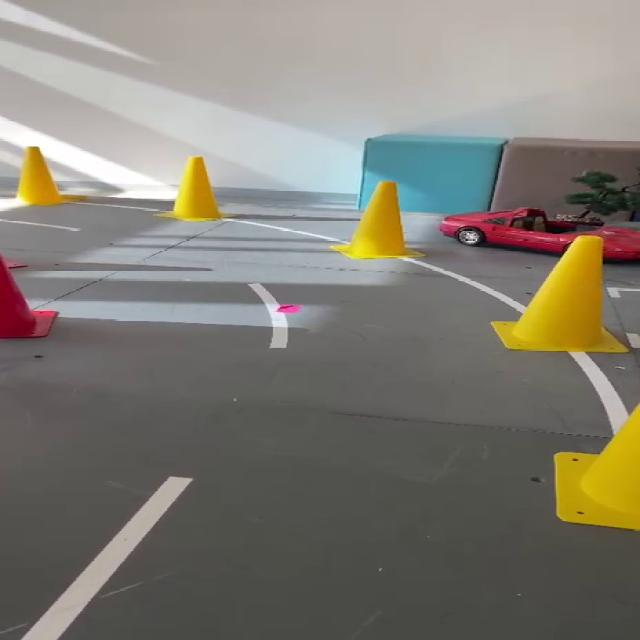Cone-red: (0, 253, 55, 338)
Cones-yellow: (492, 235, 628, 352), (556, 405, 639, 529), (331, 181, 417, 258), (163, 157, 221, 221), (17, 146, 73, 205)
